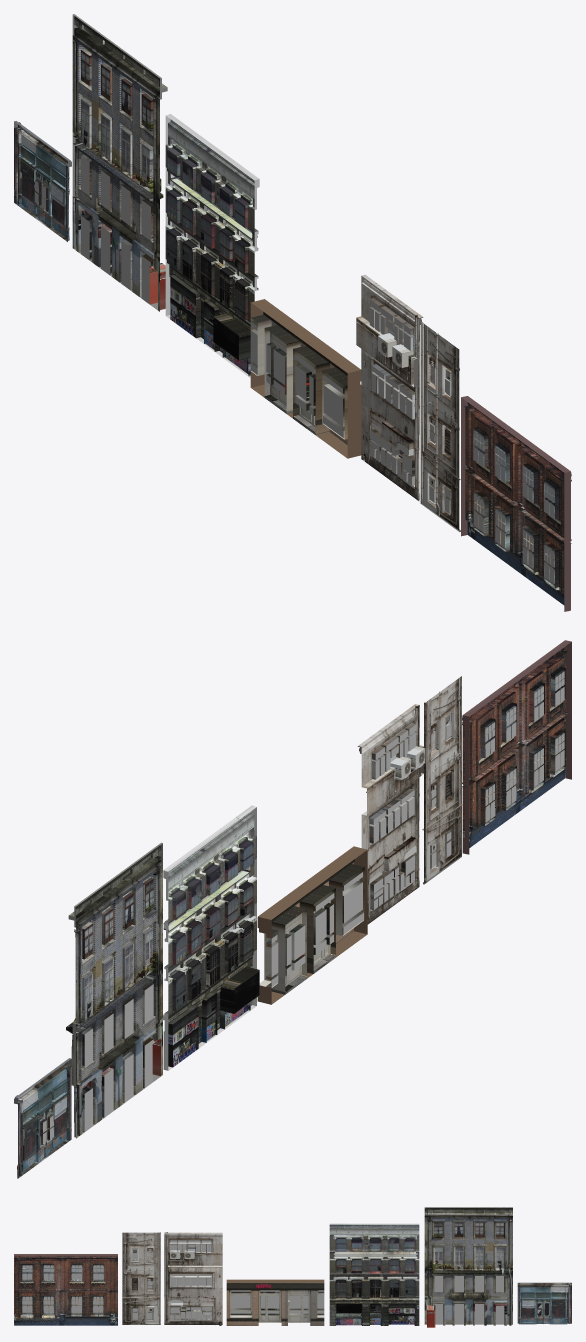
The model's file is BUILDINGS.fbx.
3 renders of one model, top to bottom at view 1: azimuth 30°, elevation 25°; view 2: azimuth 150°, elevation 25°; view 3: azimuth 270°, elevation 25°, orthographic. The views are drawn at different scales.
Visible parts, largest first — view 1: node_id19 (×2), node_id17, node_id5 (×2), node_id8 (×2), node_id14 (×2), node_id11, node_id22; view 2: node_id19 (×2), node_id17, node_id5 (×2), node_id8 (×2), node_id14 (×2), node_id11, node_id22; view 3: node_id19 (×2), node_id17, node_id5 (×2), node_id8 (×2), node_id14 (×2), node_id11 (×2), node_id22.
Boxes of the visible parts, x1=… form: node_id19 (×2): x1=72, y1=14, x2=167, y2=311; node_id17: x1=165, y1=114, x2=259, y2=377; node_id5 (×2): x1=461, y1=396, x2=571, y2=611; node_id8 (×2): x1=356, y1=274, x2=423, y2=500; node_id14 (×2): x1=250, y1=299, x2=361, y2=458; node_id11: x1=420, y1=322, x2=460, y2=531; node_id22: x1=14, y1=121, x2=71, y2=241; node_id19 (×2): x1=66, y1=842, x2=162, y2=1138; node_id17: x1=163, y1=805, x2=259, y2=1070; node_id5 (×2): x1=462, y1=640, x2=571, y2=854; node_id8 (×2): x1=357, y1=704, x2=425, y2=924; node_id14 (×2): x1=257, y1=846, x2=367, y2=1004; node_id11: x1=422, y1=676, x2=462, y2=884; node_id22: x1=14, y1=1058, x2=71, y2=1178; node_id19 (×2): x1=424, y1=1207, x2=512, y2=1327; node_id17: x1=329, y1=1223, x2=419, y2=1325; node_id5 (×2): x1=14, y1=1254, x2=117, y2=1325; node_id8 (×2): x1=164, y1=1232, x2=222, y2=1325; node_id14 (×2): x1=226, y1=1279, x2=324, y2=1325; node_id11 (×2): x1=122, y1=1232, x2=160, y2=1324; node_id22: x1=517, y1=1282, x2=571, y2=1324.
Size of the model in its own units: 0.0279 by 0.2527 by 1.08.
14 materials, 8 textured.
